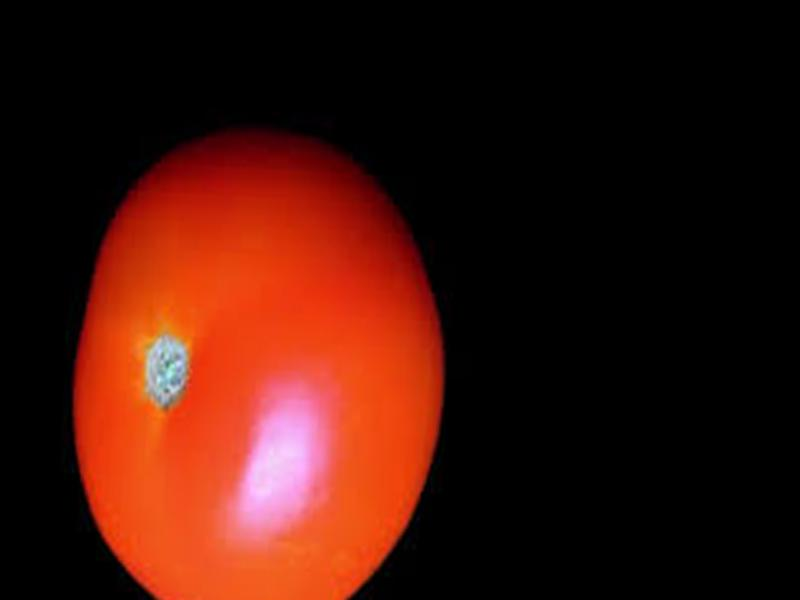Tomato: (61, 119, 456, 600)
